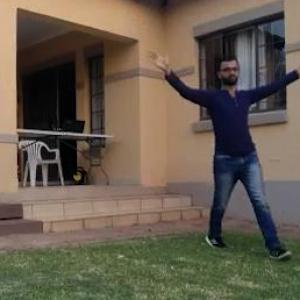takeoff: (160, 49, 299, 268)
